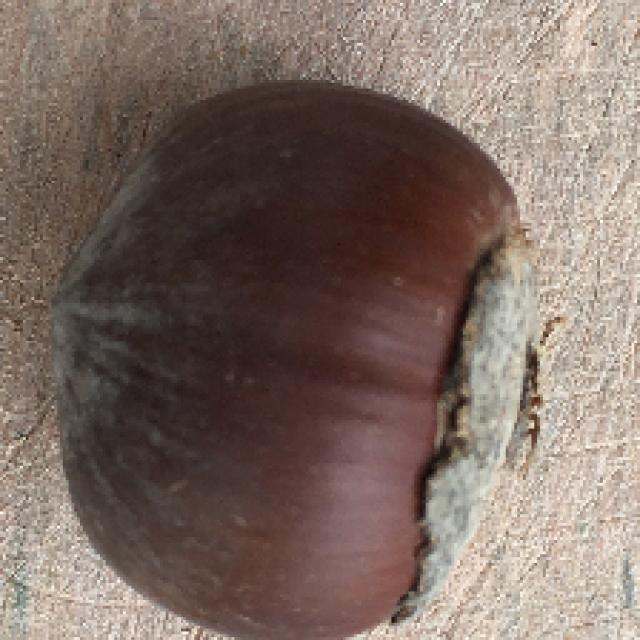damagedHazelnut: (55, 77, 576, 640)
